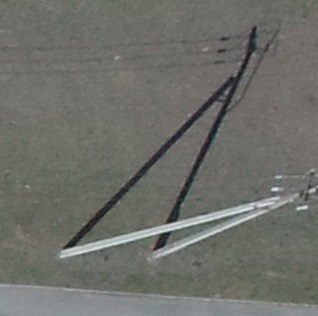opora: (55, 127, 318, 262)
